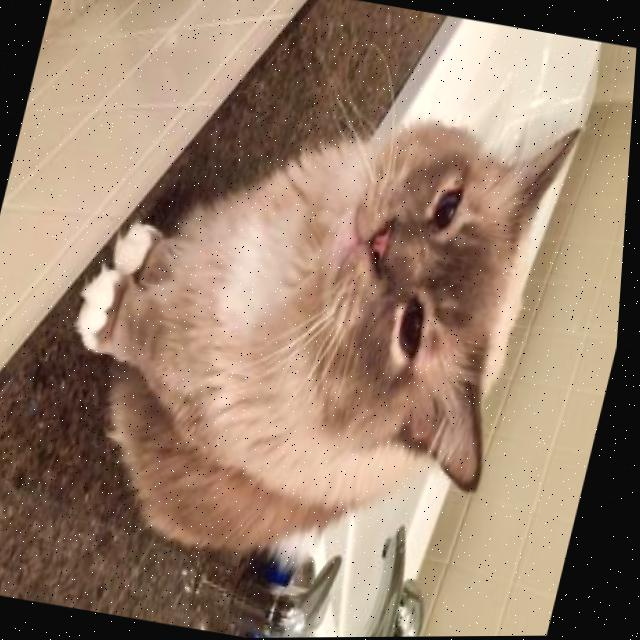Birman: (18, 39, 602, 611)
